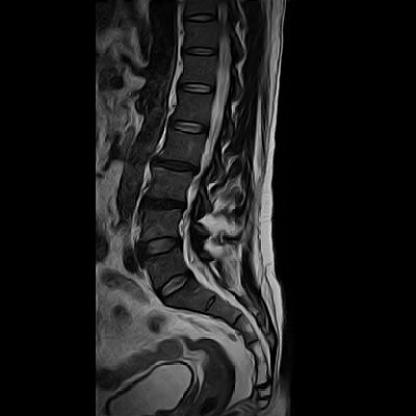Degenerative Disc Diseaserotation: (152, 156, 197, 176), (139, 197, 184, 214)
Disc Bulgerotation: (141, 235, 183, 257), (152, 156, 197, 176), (139, 197, 185, 214)
